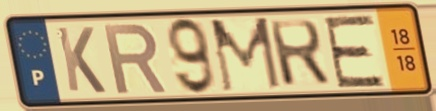9: (165, 15, 218, 98)
E: (321, 12, 388, 90)
K: (53, 25, 109, 96)
M: (207, 14, 285, 95)
R: (100, 22, 170, 97), (265, 17, 334, 89)
